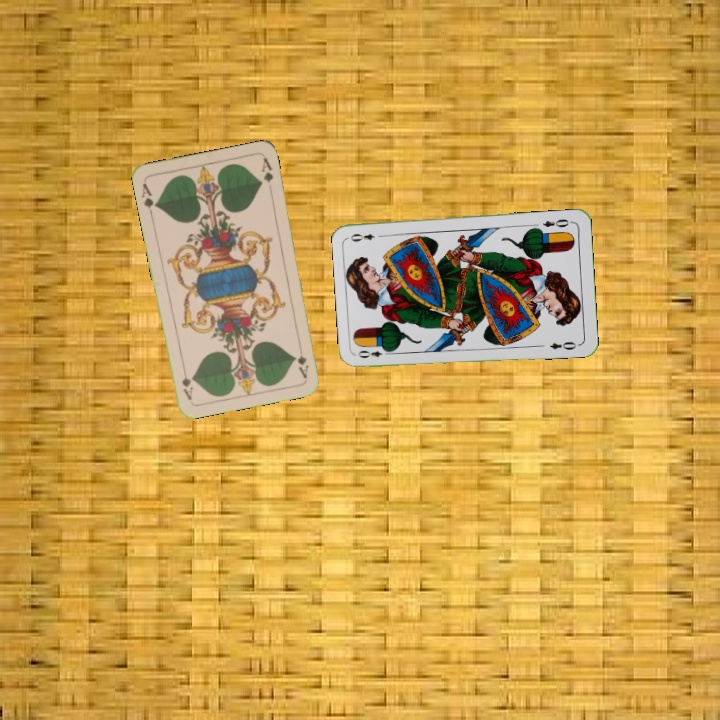EO: (354, 344, 394, 361), (539, 215, 575, 230)
GA: (138, 179, 160, 218), (293, 340, 311, 381)
